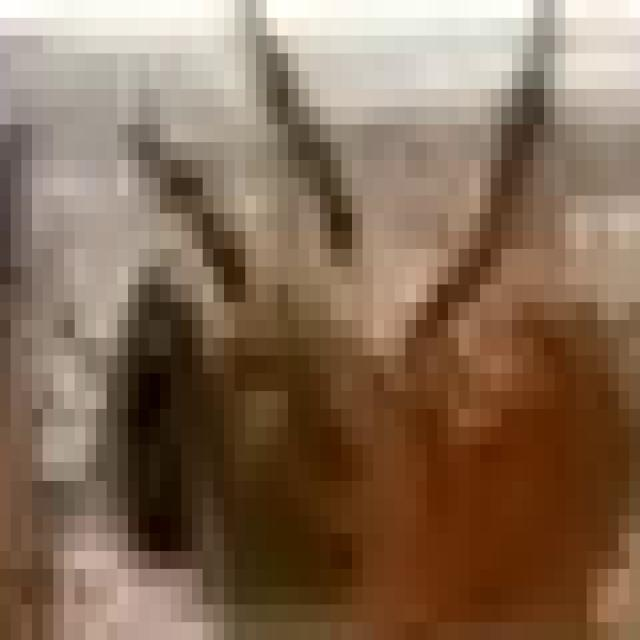honeybee: (100, 97, 596, 571)
